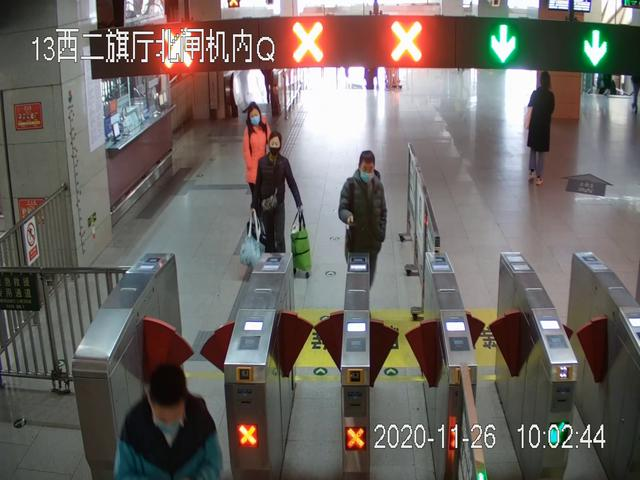person: (115, 362, 222, 480), (339, 151, 387, 308), (253, 130, 303, 265), (244, 101, 275, 227), (526, 71, 554, 185)
